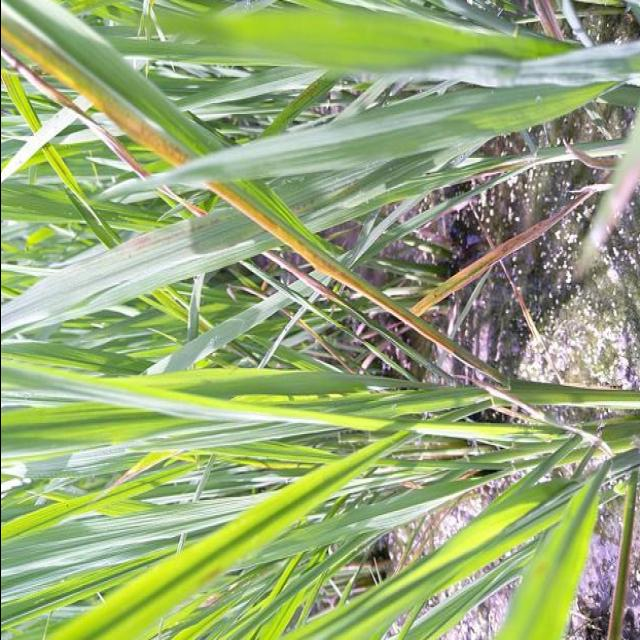Leaf Blight: (206, 181, 499, 380), (0, 16, 223, 168), (0, 44, 143, 179)
